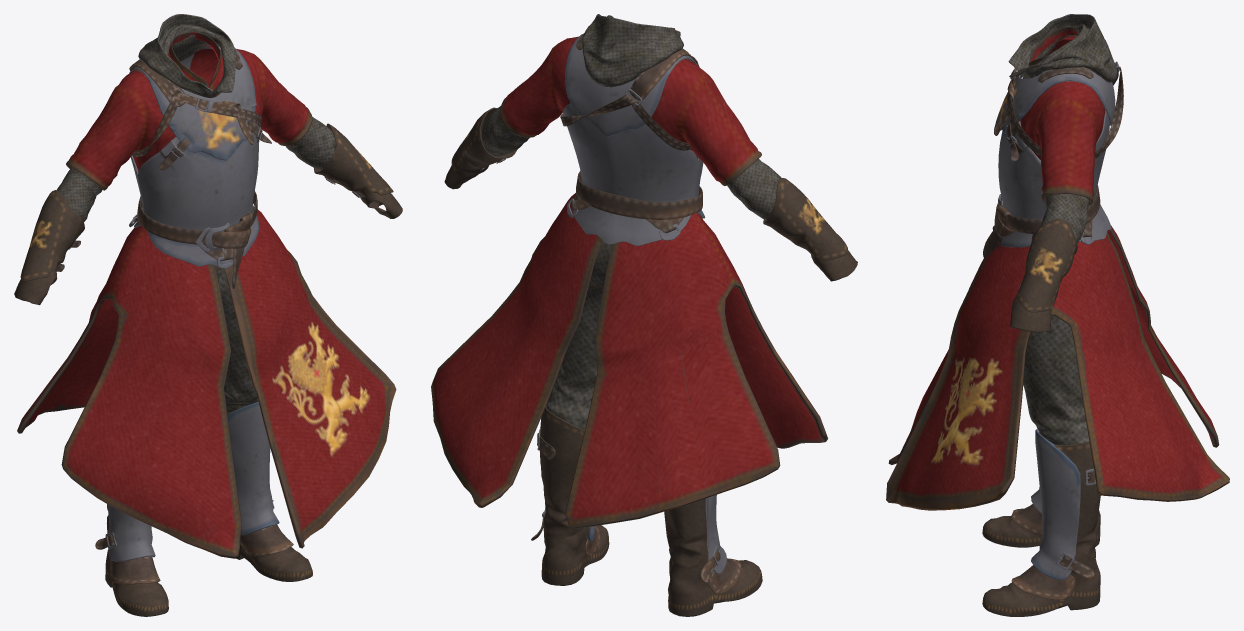
The model's file is lion_armor.glb.
The picture shows the model from 3 angles, left to right: view 1: azimuth 30°, elevation 25°; view 2: azimuth 150°, elevation 25°; view 3: azimuth 270°, elevation 25°; orthographic projection. The views are drawn at different scales.
Parts seen in each view (by area): view 1: challenger_dress; view 2: challenger_dress; view 3: challenger_dress.
Part boxes in pixels (x1,y1,x2,y2): challenger_dress: (14, 14, 402, 616); challenger_dress: (431, 14, 857, 616); challenger_dress: (886, 14, 1229, 616).
Bounding box in the file's own units: 1.46 × 2 × 1.13.
1 material, 1 textured.
